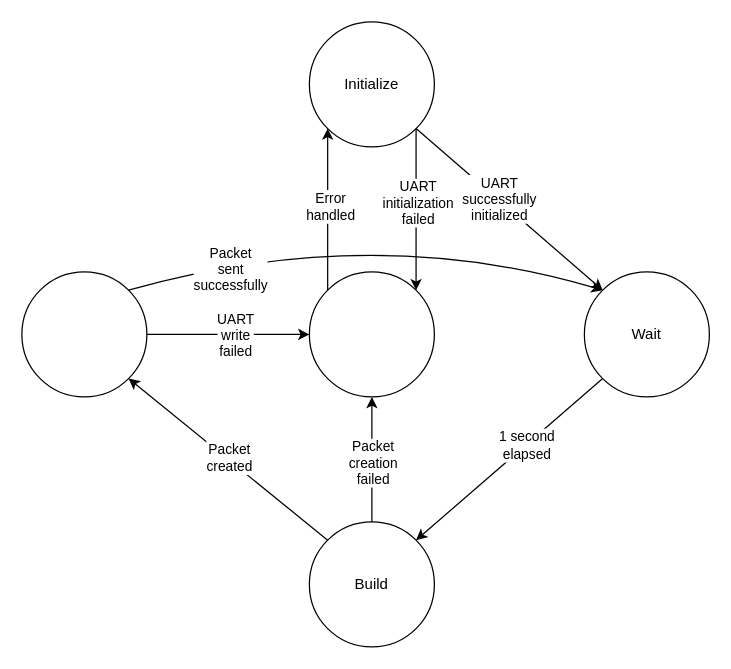
This 731x669 diagram has some shape labels left out. The centre of each missing label's shape, as x and y in pixels:
"Error" goes at (371,334).
"Send" goes at (84,334).
